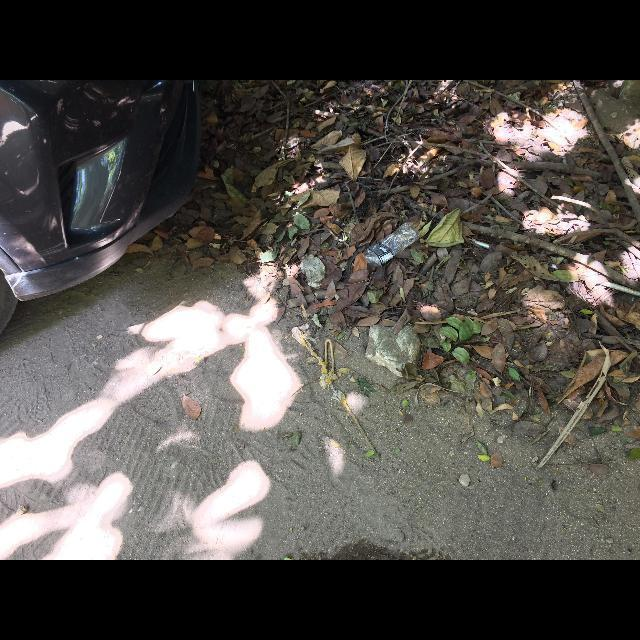Plastic: (364, 222, 421, 266)
